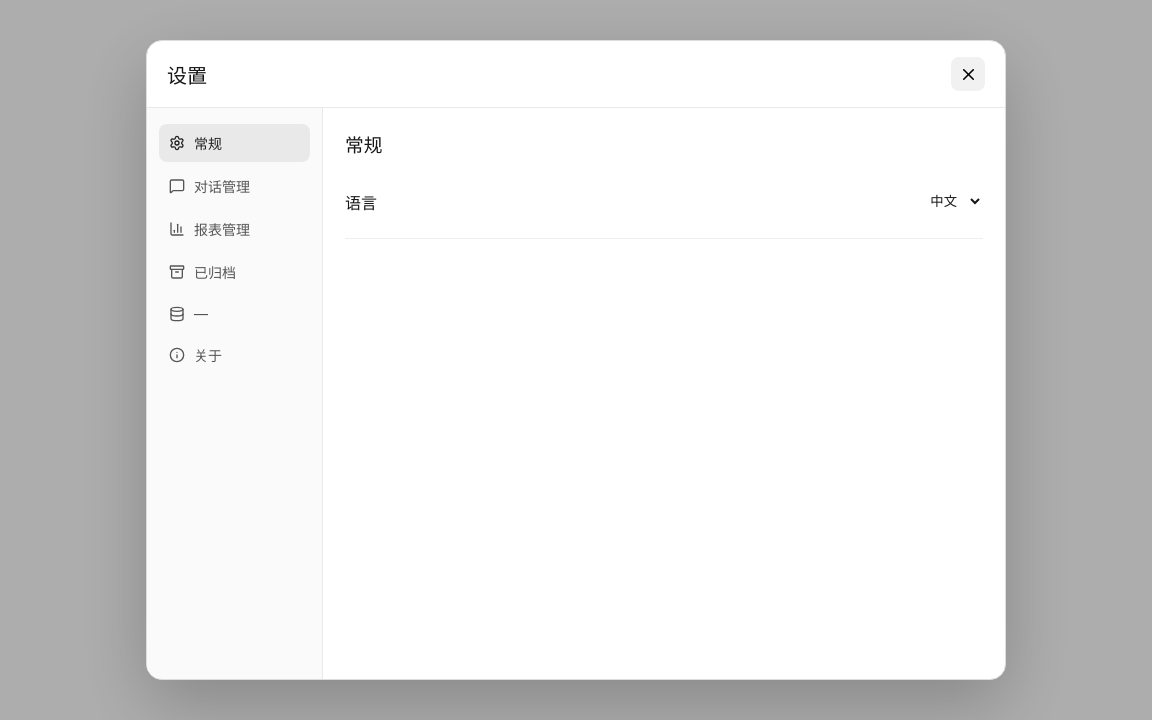
it: ResourceManager lifecycle operations › does not resurrect a deleted report from a page started before deletion
Step 1. Click the button "报表管理" → (234,229), box [159,210,310,248]
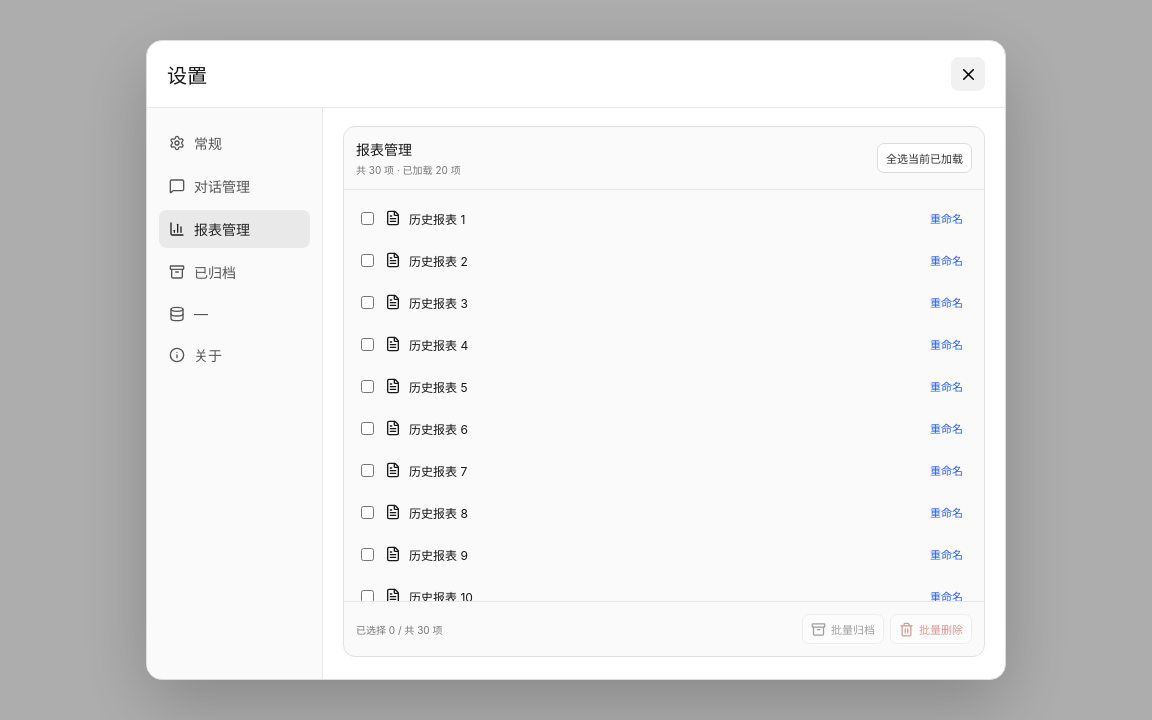
Step 2. Click the checkbox named "选择报表：历史报表 1" → (368,218), box [361,212,374,224]
(page scrolled)
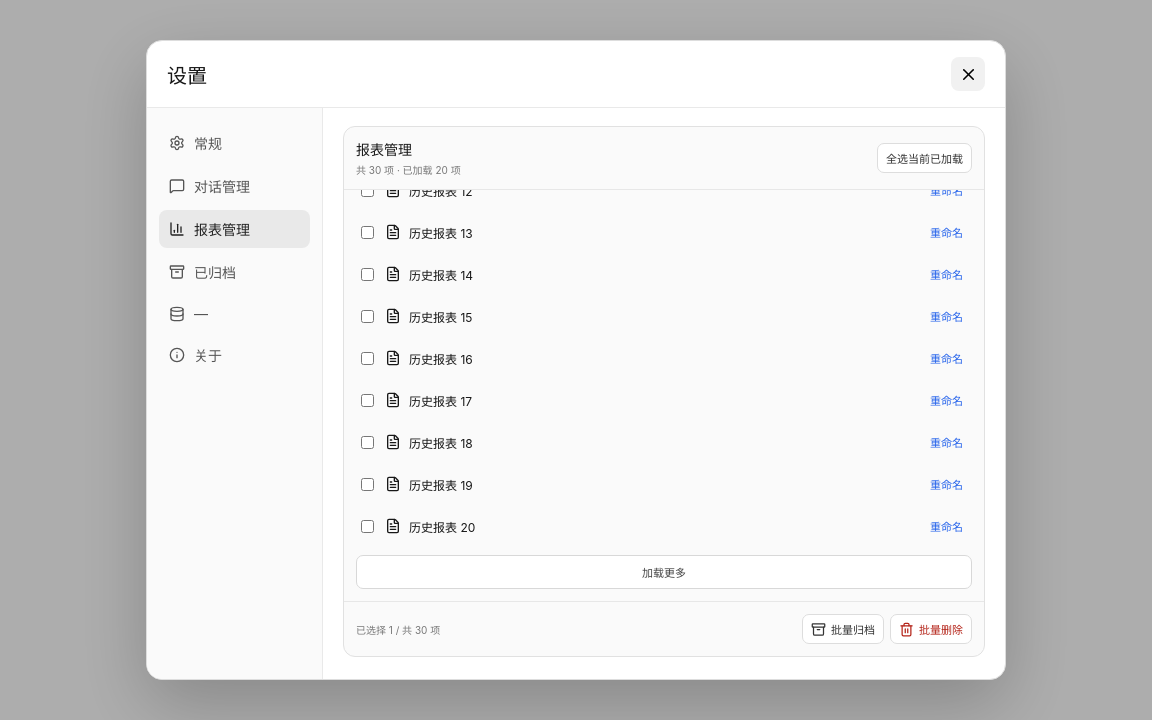
Step 3. Click the button "加载更多" → (664,572), box [356,555,972,589]
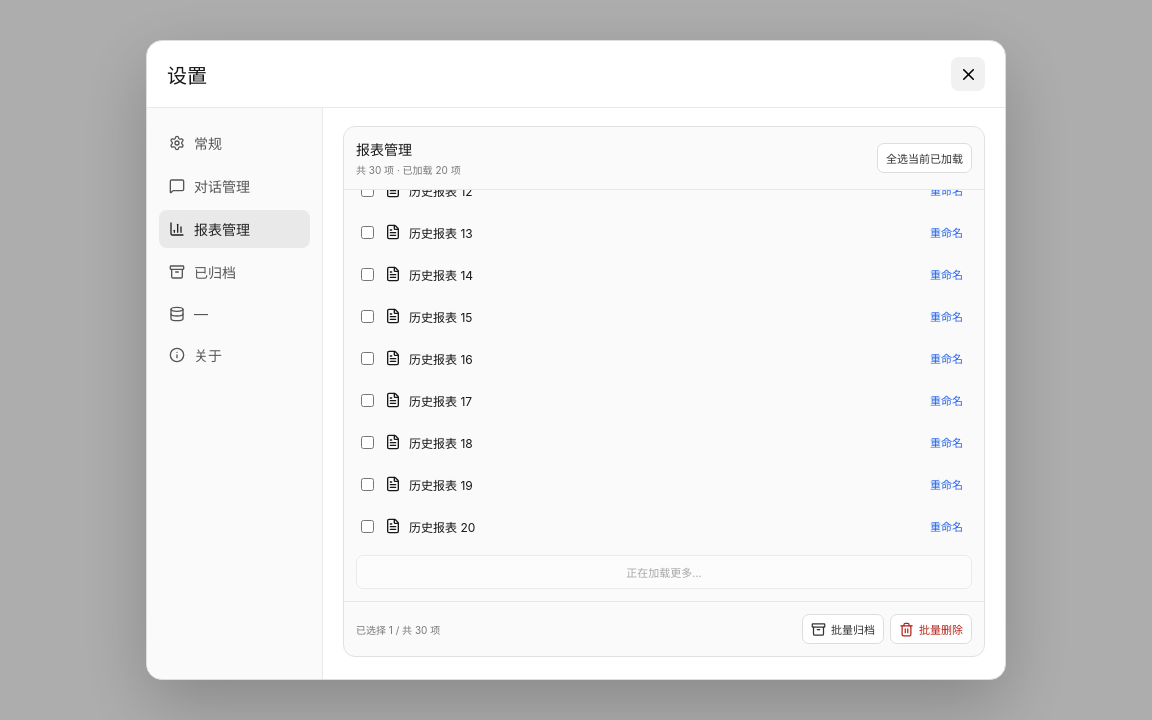
Step 4. Click the button "批量删除" → (931,629), box [890,614,972,644]
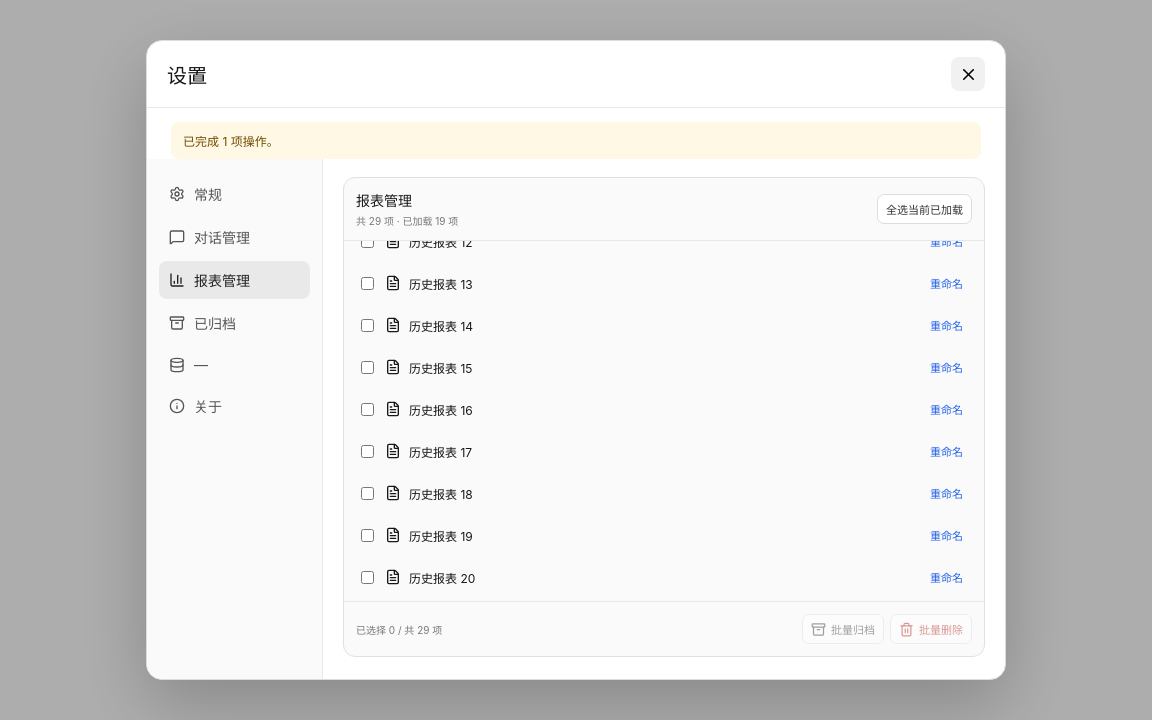
Check: the text "已完成 1 项操作。" is shown, box [171,122,981,159]
Check: the button "正在加载更多…" is gone
